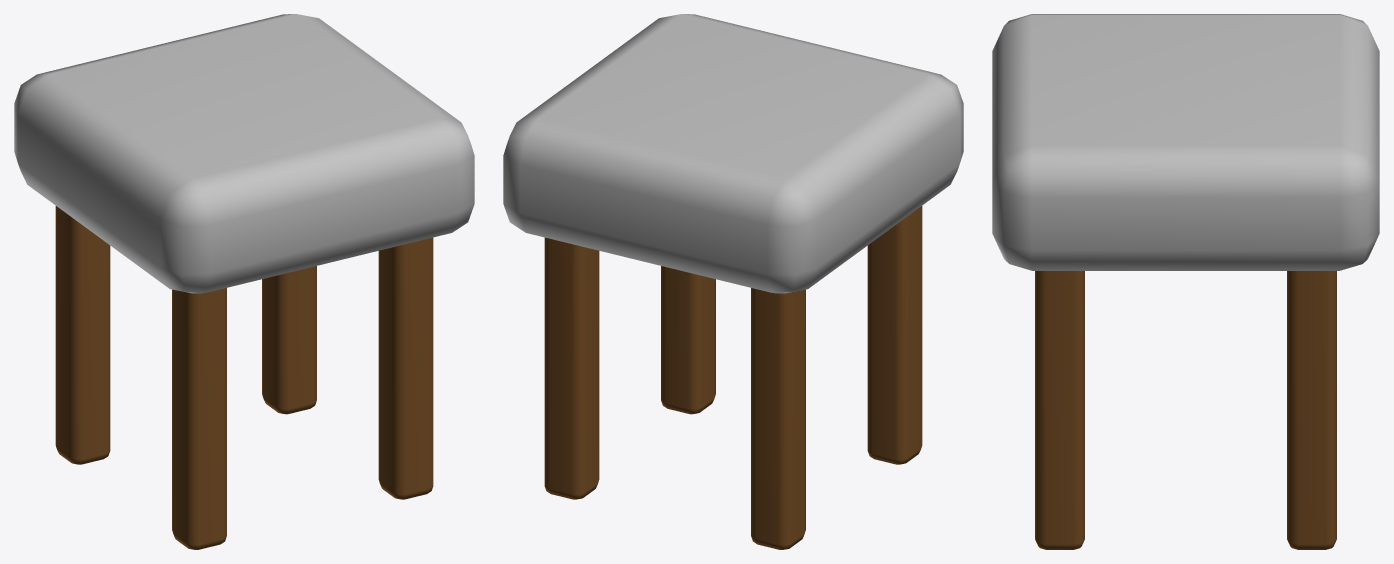
Rendered from stool_06_white.fbx.
3 renders of one model, left to right at view 1: azimuth 30°, elevation 25°; view 2: azimuth 150°, elevation 25°; view 3: azimuth 270°, elevation 25°, orthographic. The views are drawn at different scales.
Visible parts, largest first — view 1: stool_06_white; view 2: stool_06_white; view 3: stool_06_white.
Part boxes in pixels (x1=…): stool_06_white: x1=14, y1=14, x2=474, y2=549; stool_06_white: x1=503, y1=14, x2=963, y2=549; stool_06_white: x1=992, y1=14, x2=1379, y2=549.
Bounding box in the file's own units: 41.07 × 47.84 × 41.07.
1 material, 1 textured.
